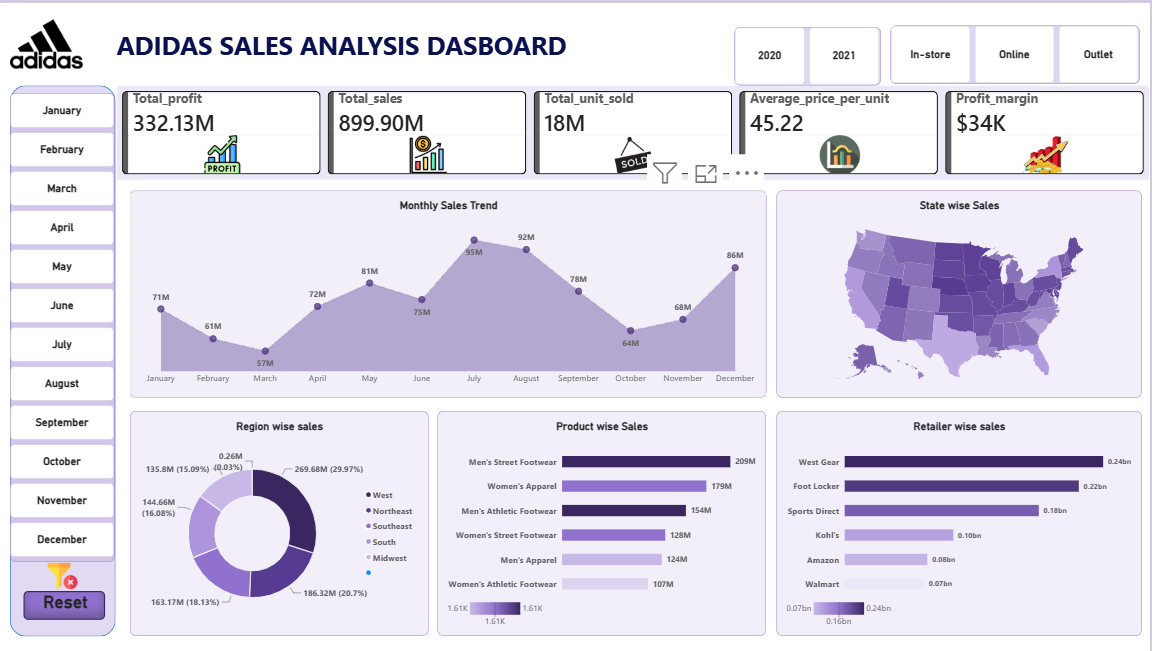

Layout of this report page (visuals, bound fields, positions):
{"tool":"powerbi","page":{"name":"Page 1","canvas":[1920,1080],"ordinal":0},"visuals":[{"type":"cardVisual","fields":{"Data":["Data Sales Adidas.Total_profit","Data Sales Adidas.Total_sales","Data Sales Adidas.Total_unit_sold","Data Sales Adidas.Average_price_per_unit","Data Sales Adidas.Profit_margin"]},"box":[197,136.4,1724.2,157.6],"z":0},{"type":"image","box":[21.2,0,121.2,136.4],"z":1000},{"type":"textbox","box":[197,39.4,821.2,97],"z":2000},{"type":"shape","box":[20.4,136.3,175.8,918.2],"z":3000},{"type":"areaChart","title":"Monthly Sales Trend","fields":{"Category":["Data Sales Adidas.Invoice Date.Variation.Date Hierarchy.Month"],"Y":["Data Sales Adidas.Total_sales"]},"box":[220.3,313.4,1060.7,345.2],"z":4000},{"type":"shapeMap","title":"State wise Sales","fields":{"Category":["Data Sales Adidas.State"],"Value":["Data Sales Adidas.Total_sales"]},"box":[1296.9,313.4,608.7,345.2],"z":5000},{"type":"donutChart","title":"Region wise sales","fields":{"Category":["Data Sales Adidas.Region"],"Y":["Data Sales Adidas.Total_sales"]},"box":[220.3,679.1,497.4,374.8],"z":6000},{"type":"clusteredBarChart","title":"Product wise Sales","fields":{"Category":["Data Sales Adidas.Product"],"Y":["Data Sales Adidas.Total_sales"]},"box":[733.6,679.1,547.4,374.8],"z":7000},{"type":"clusteredBarChart","title":"Retailer wise sales","fields":{"Category":["Data Sales Adidas.Retailer"],"Y":["Data Sales Adidas.Total_sales"]},"box":[1296.9,679.1,608.7,374.8],"z":8000},{"type":"advancedSlicerVisual","fields":{"Values":["Data Sales Adidas.Sales Method"]},"box":[1487.7,38.6,415.6,97.7],"z":9000},{"type":"advancedSlicerVisual","fields":{"Values":["Data Sales Adidas.Invoice Date.Variation.Date Hierarchy.Year"]},"box":[1227.4,38.8,243.8,97.1],"z":10000},{"type":"advancedSlicerVisual","fields":{"Values":["Data Sales Adidas.Month"]},"box":[20.4,149.9,174.9,781.3],"z":11000},{"type":"image","box":[20.4,931.2,174.9,50],"z":12000},{"type":"actionButton","title":"Reset","box":[43.2,981.2,136.3,47.7],"z":13000}]}

Visuals, with their boxes in screenshot pixels (x1, y1, x2, y2), scaled from the page's 1920x1080 canvas onto the 1152x651 screenshot:
cardVisual - Data Sales Adidas.Total_profit x Data Sales Adidas.Total_sales: box=[118, 82, 1151, 177]
image: box=[13, 0, 85, 82]
textbox: box=[118, 24, 611, 82]
shape: box=[12, 82, 118, 636]
"Monthly Sales Trend" areaChart: box=[132, 189, 769, 397]
"State wise Sales" shapeMap: box=[778, 189, 1143, 397]
"Region wise sales" donutChart: box=[132, 409, 431, 635]
"Product wise Sales" clusteredBarChart: box=[440, 409, 769, 635]
"Retailer wise sales" clusteredBarChart: box=[778, 409, 1143, 635]
advancedSlicerVisual - Data Sales Adidas.Sales Method: box=[893, 23, 1142, 82]
advancedSlicerVisual - Data Sales Adidas.Invoice Date.Variation.Date Hierarchy.Year: box=[736, 23, 883, 82]
advancedSlicerVisual - Data Sales Adidas.Month: box=[12, 90, 117, 561]
image: box=[12, 561, 117, 591]
"Reset" actionButton: box=[26, 591, 108, 620]
